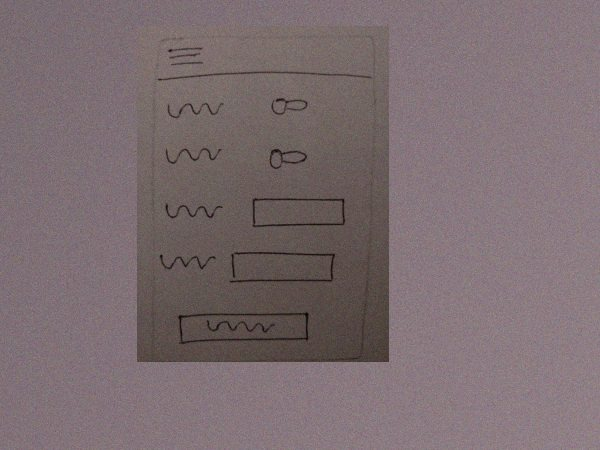switch: (259, 90, 317, 122), (261, 141, 314, 174)
text: (163, 95, 234, 120), (162, 140, 223, 169), (162, 196, 225, 224), (157, 246, 217, 273)
text_input: (227, 247, 339, 288), (246, 192, 350, 230)
